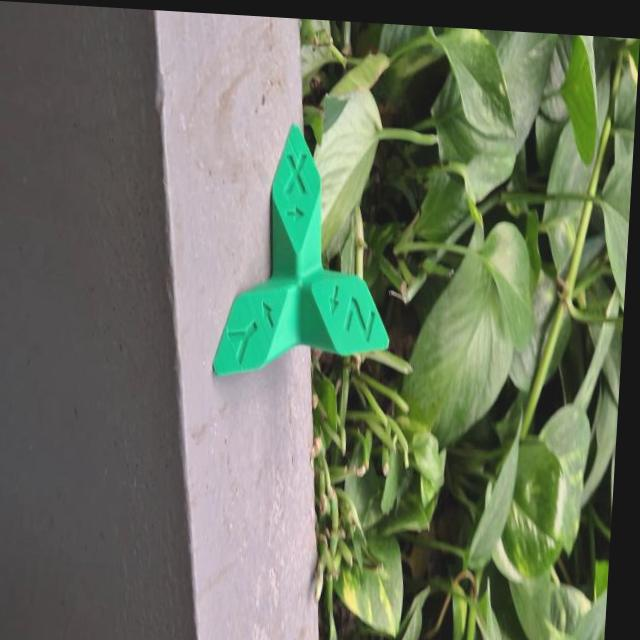eje: (210, 114, 404, 389)
